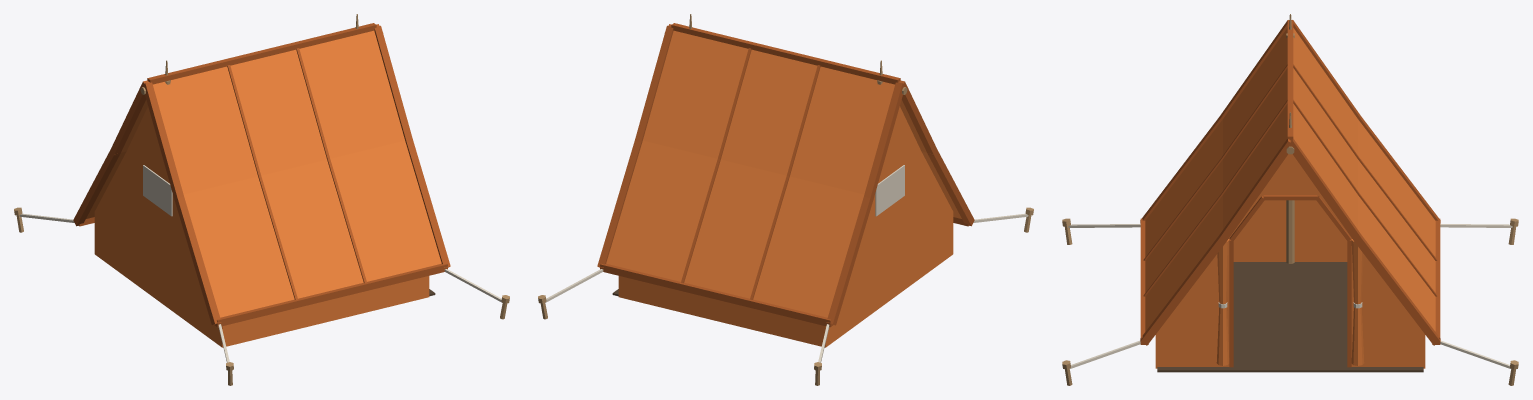
File: baseline-C03.glb
The picture shows the model from 3 angles, left to right: view 1: azimuth 30°, elevation 25°; view 2: azimuth 150°, elevation 25°; view 3: azimuth 270°, elevation 25°; orthographic projection. The views are drawn at different scales.
Parts seen in each view (by area): view 1: C03_geo; view 2: C03_geo; view 3: C03_geo.
Part boxes in pixels (left/top/right/bottom): C03_geo: left=14, top=14, right=509, bottom=385; C03_geo: left=538, top=14, right=1033, bottom=385; C03_geo: left=1062, top=14, right=1518, bottom=385.
Size of the model in its own units: 4.11 by 3.3 by 5.42.
